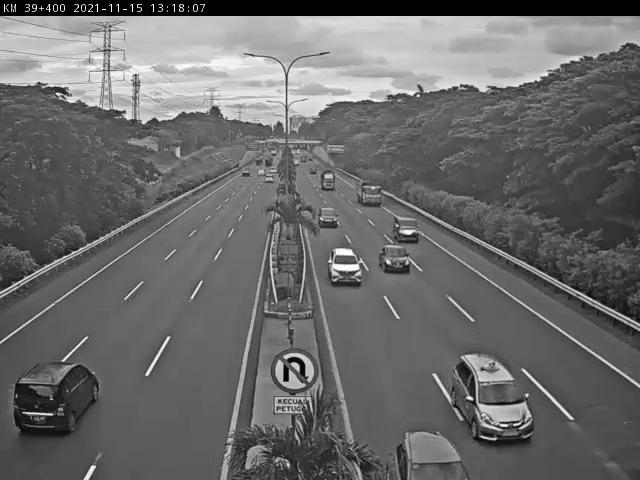car: (450, 350, 536, 445), (12, 361, 101, 433), (326, 247, 366, 286), (377, 244, 413, 275), (317, 206, 339, 229)
truck-s-: (392, 213, 422, 245)
